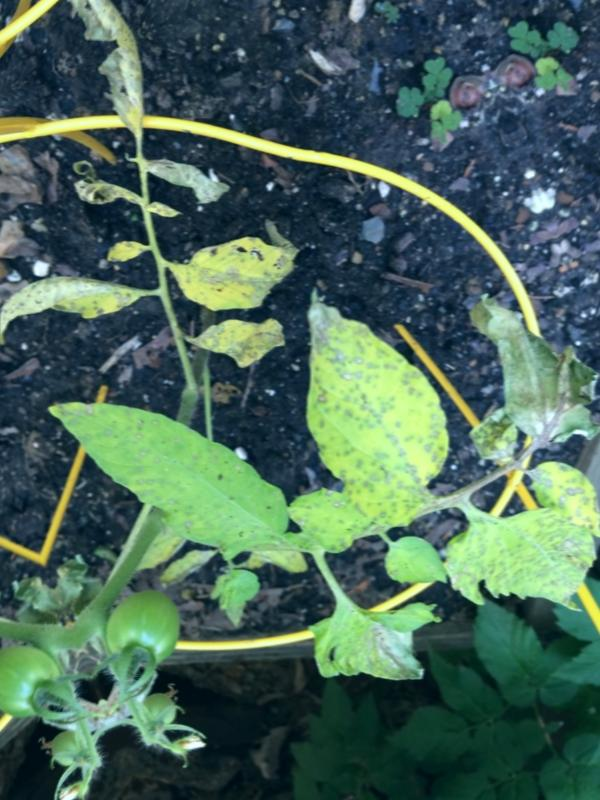Tomato Septoria leaf spot: (48, 335, 312, 635), (261, 256, 482, 560), (288, 551, 478, 733), (422, 471, 600, 661), (147, 201, 317, 334), (287, 472, 387, 576)
